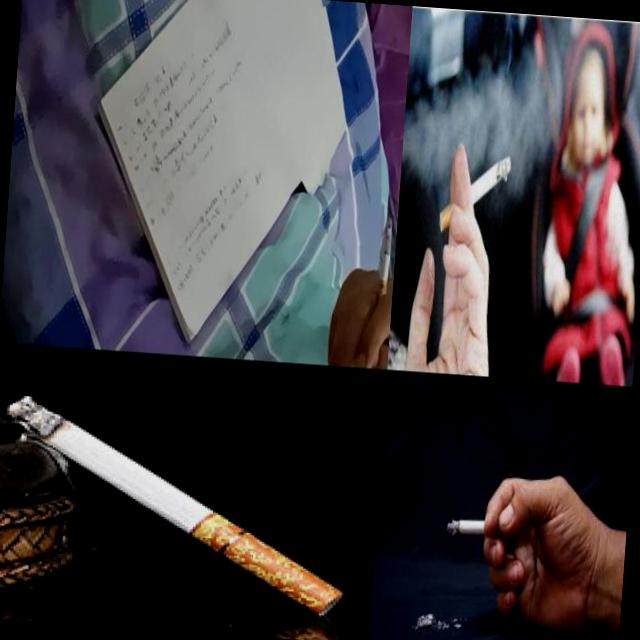smoke: (0, 392, 358, 617), (438, 152, 510, 238), (375, 216, 394, 317), (446, 518, 514, 540)
